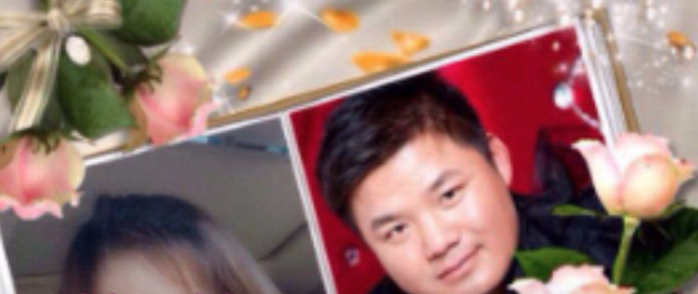ImgView: (1, 1, 697, 293)
